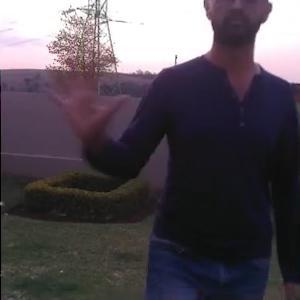follow_hand: (42, 47, 130, 142)
